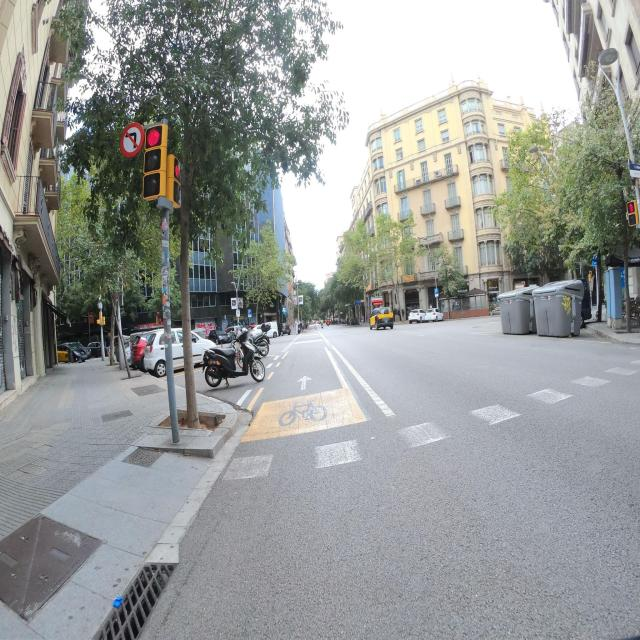bike: (203, 325, 266, 389), (322, 323, 324, 329)
car: (140, 326, 213, 377), (128, 330, 156, 370), (60, 341, 90, 362), (370, 306, 394, 330), (86, 340, 110, 358), (261, 320, 279, 338), (408, 308, 426, 324), (425, 307, 444, 322), (278, 322, 290, 335)
